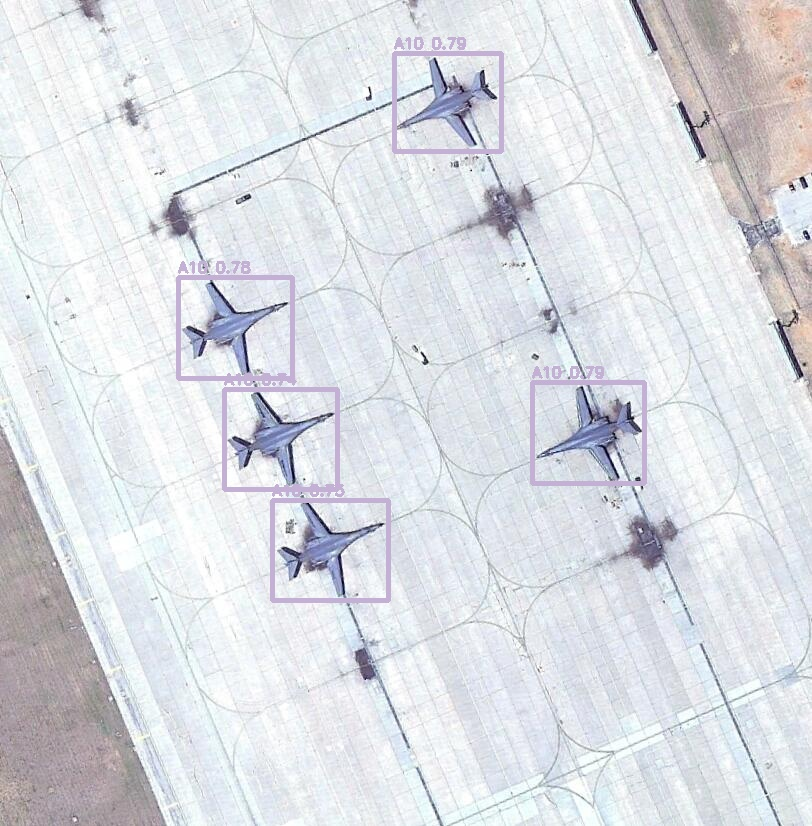A10: (272, 500, 388, 600), (178, 277, 292, 378), (532, 382, 644, 483), (224, 389, 337, 489), (394, 53, 501, 151)
